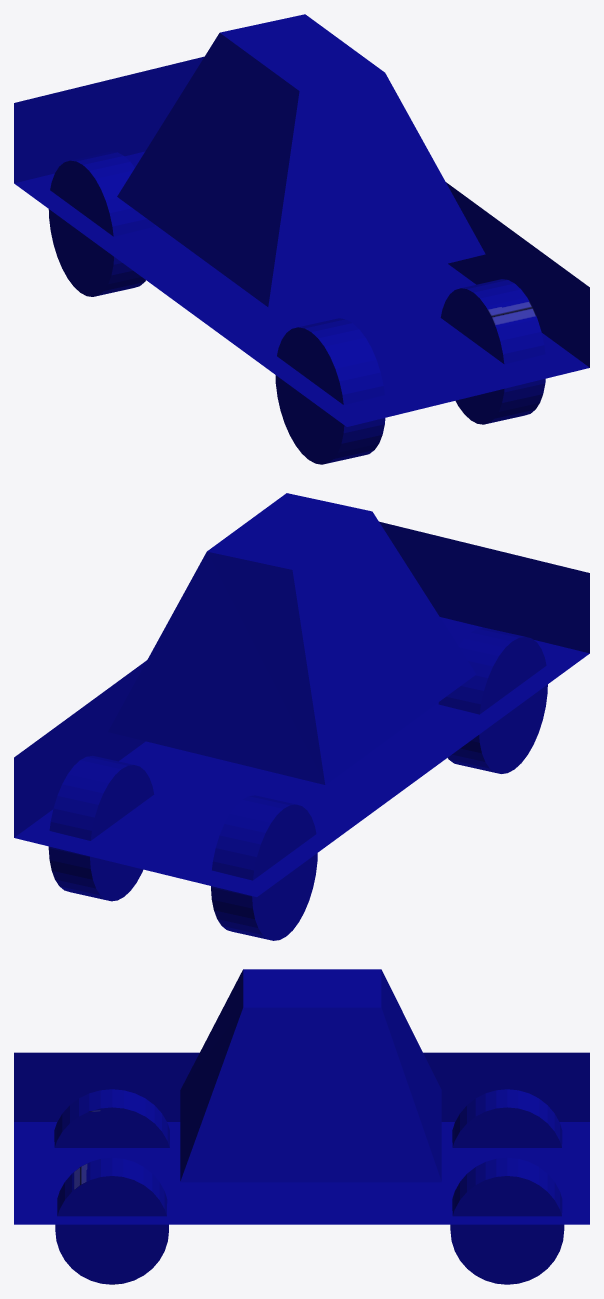
File: car.obj
3 views of the same model, one above another, from view 1: azimuth 30°, elevation 25°; view 2: azimuth 150°, elevation 25°; view 3: azimuth 270°, elevation 25° (orthographic). The views are drawn at different scales.
Parts seen in each view (by area): view 1: 立方体; view 2: 立方体; view 3: 立方体.
Boxes of the visible parts, x1,y1,x2,y2 form: 立方体: [14, 14, 589, 464]; 立方体: [14, 493, 589, 940]; 立方体: [14, 969, 589, 1284].
Size of the model in its own units: 1.8 by 2.11 by 4.27.
Materials: 4 (4 with a texture image).
